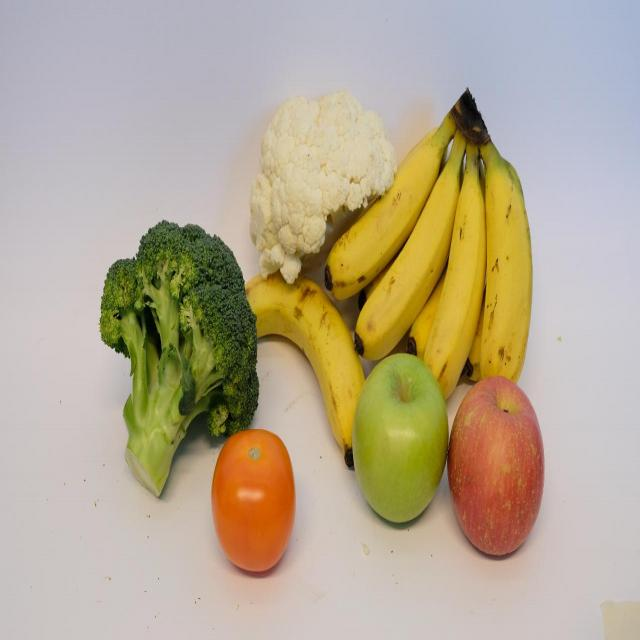apple: (344, 353, 447, 538), (448, 379, 548, 569)
banana: (240, 261, 370, 463), (323, 119, 442, 304), (356, 163, 459, 360), (419, 176, 482, 405), (479, 150, 532, 390)
broccoli: (89, 204, 257, 500)
cauliflower: (244, 86, 398, 271)
tomato: (212, 428, 296, 576)
